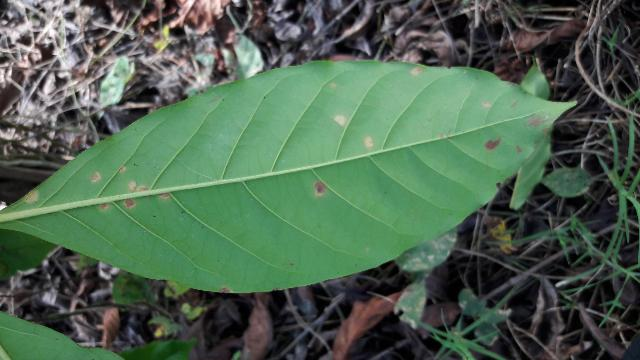rust_level_1: (5, 60, 573, 293)
